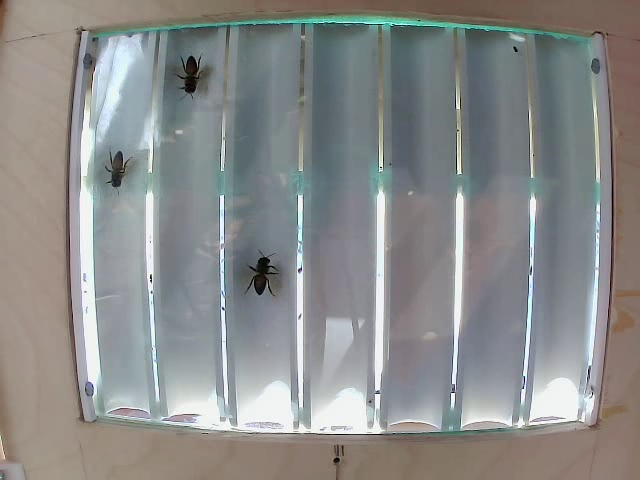bee: (101, 152, 146, 187), (246, 259, 285, 299), (180, 60, 213, 102)
